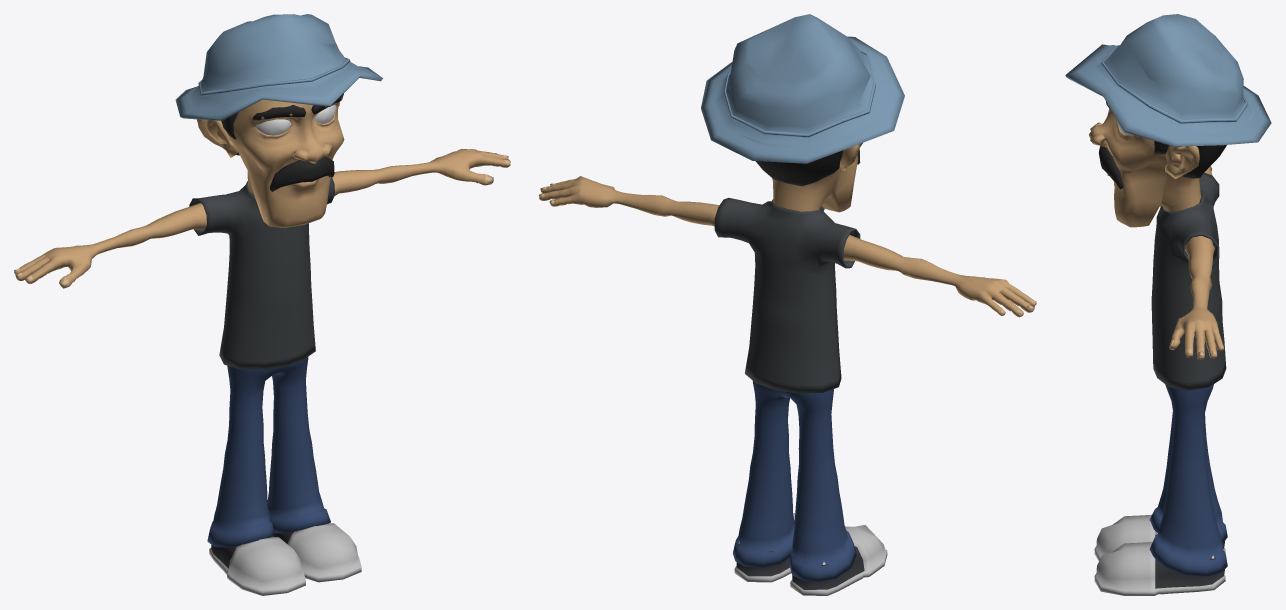
Rendered from public02_mixamo.fbx.
3 views of the same model, side by side, from view 1: azimuth 30°, elevation 25°; view 2: azimuth 150°, elevation 25°; view 3: azimuth 270°, elevation 25° (orthographic).
Visible parts, largest first — view 1: Raymond; view 2: Raymond; view 3: Raymond.
Part boxes in pixels (x1=…): Raymond: x1=14, y1=14, x2=510, y2=595; Raymond: x1=539, y1=14, x2=1036, y2=595; Raymond: x1=1065, y1=14, x2=1271, y2=595.
Size of the model in its own units: 634 by 674 by 230.
